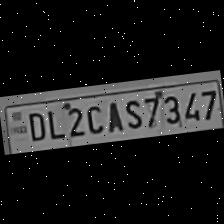2: (62, 103, 84, 139)
3: (158, 91, 182, 127)
4: (178, 88, 200, 123)
7: (140, 93, 162, 129), (198, 86, 218, 122)
A: (100, 98, 122, 134)
C: (82, 100, 106, 136)
D: (22, 108, 46, 143)
L: (43, 105, 65, 142)
S: (119, 96, 144, 132)
